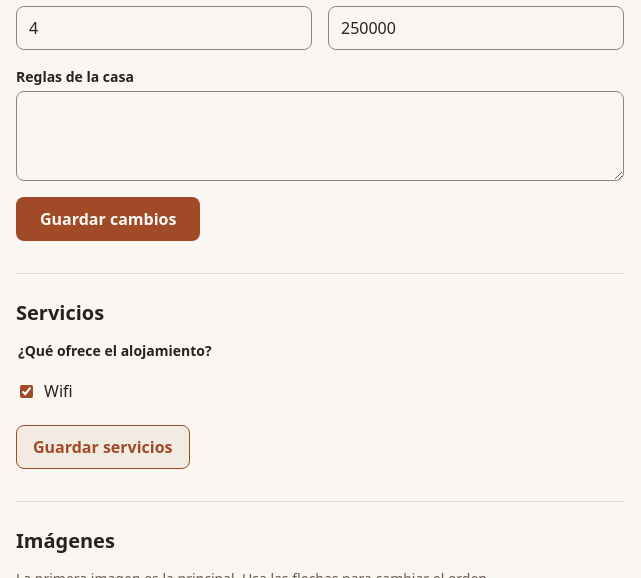
Test: PublicacionFormPage › al editar ofrece los servicios, y el PUT envía los recién guardados
(page scrolled)
Click the checkbox labelled "Wifi": (26, 391) x1=20 y1=384 x2=33 y2=398
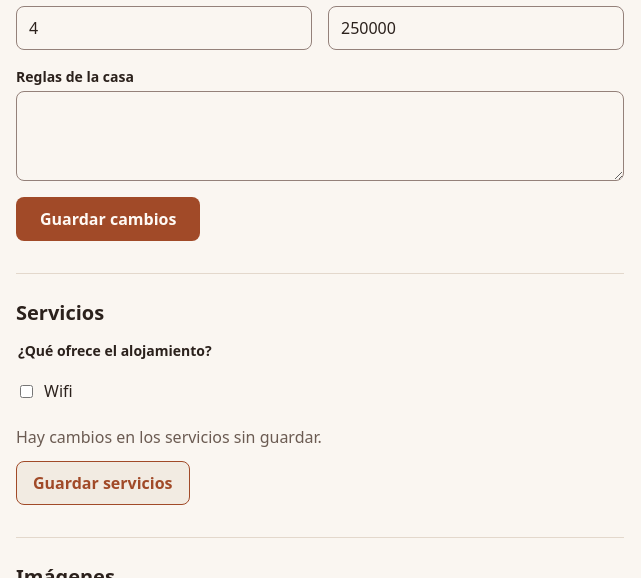
Click the button "Guardar servicios": (103, 483) x1=16 y1=461 x2=190 y2=505
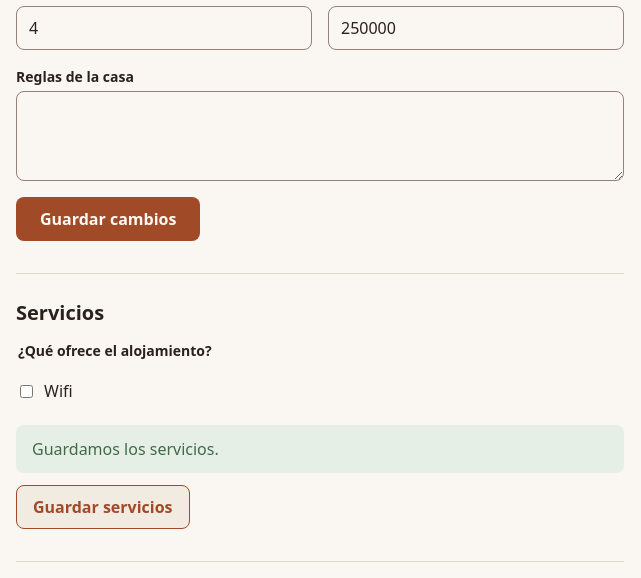
Expected: the text "Guardamos los servicios." is shown, x1=16 y1=425 x2=624 y2=473
Click the button "Guardar cambios": (108, 219) x1=16 y1=197 x2=200 y2=241
(page scrolled)
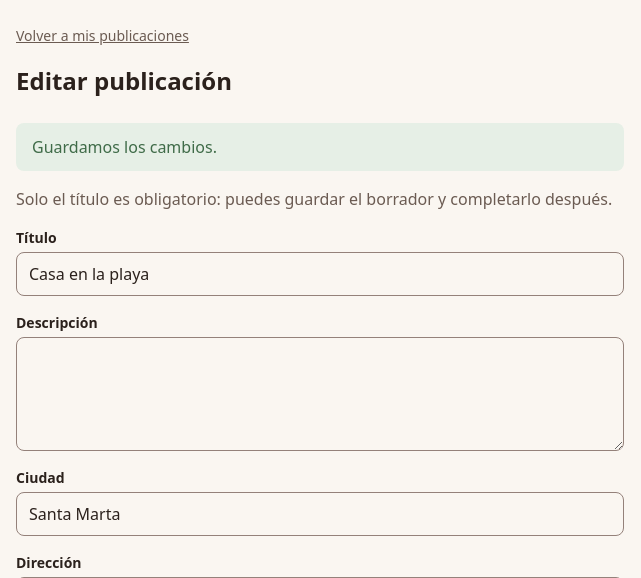
Expected: the text "Guardamos los cambios." is shown, x1=16 y1=123 x2=624 y2=171
